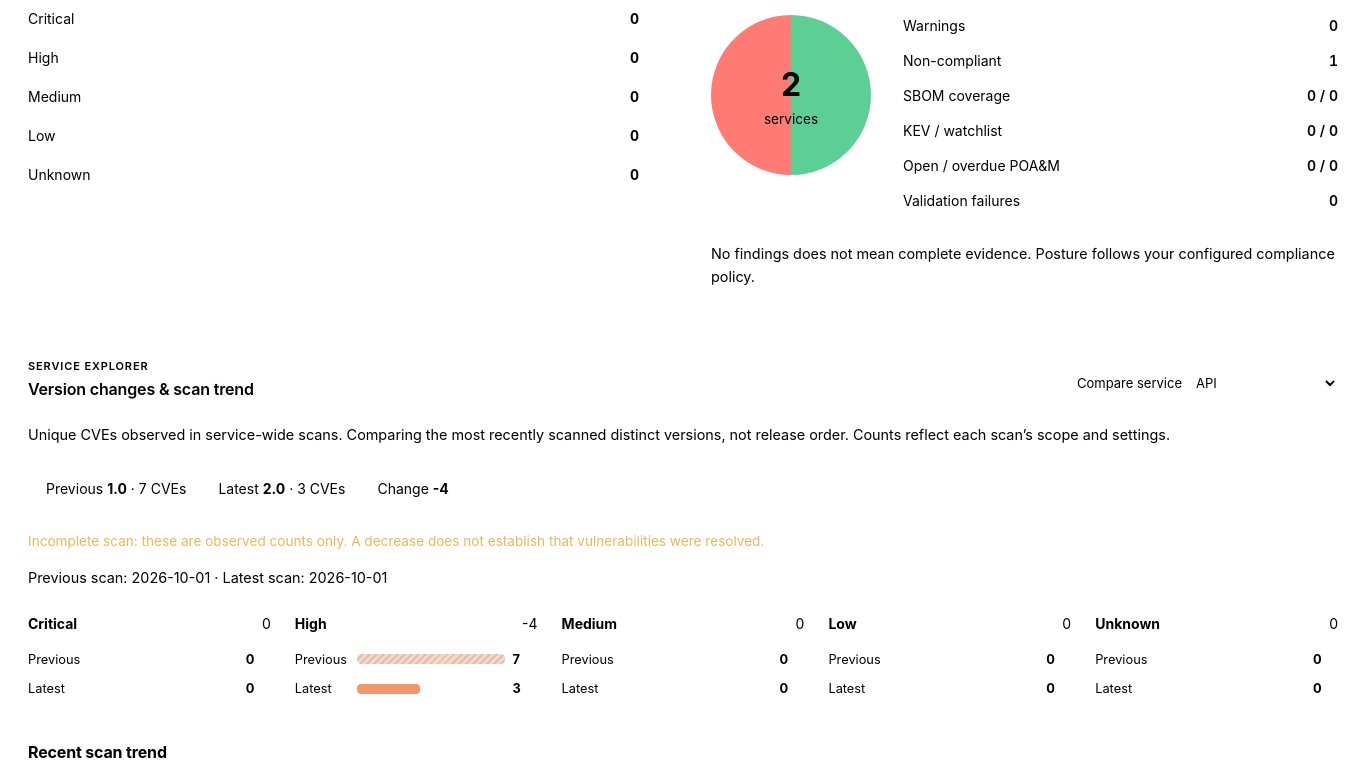
Test case: cybersecurity portfolio › compares saved versions, flags partial scans and switches services
(page scrolled)
Expected: the text "-4" is shown 2 times, [433, 480, 449, 497]; [522, 613, 538, 634]
Expected: the text "does not establish" is shown, [28, 533, 764, 549]
Select "Database" in the dropdown labelled "Compare service" at [1260, 383], box [1182, 365, 1338, 401]
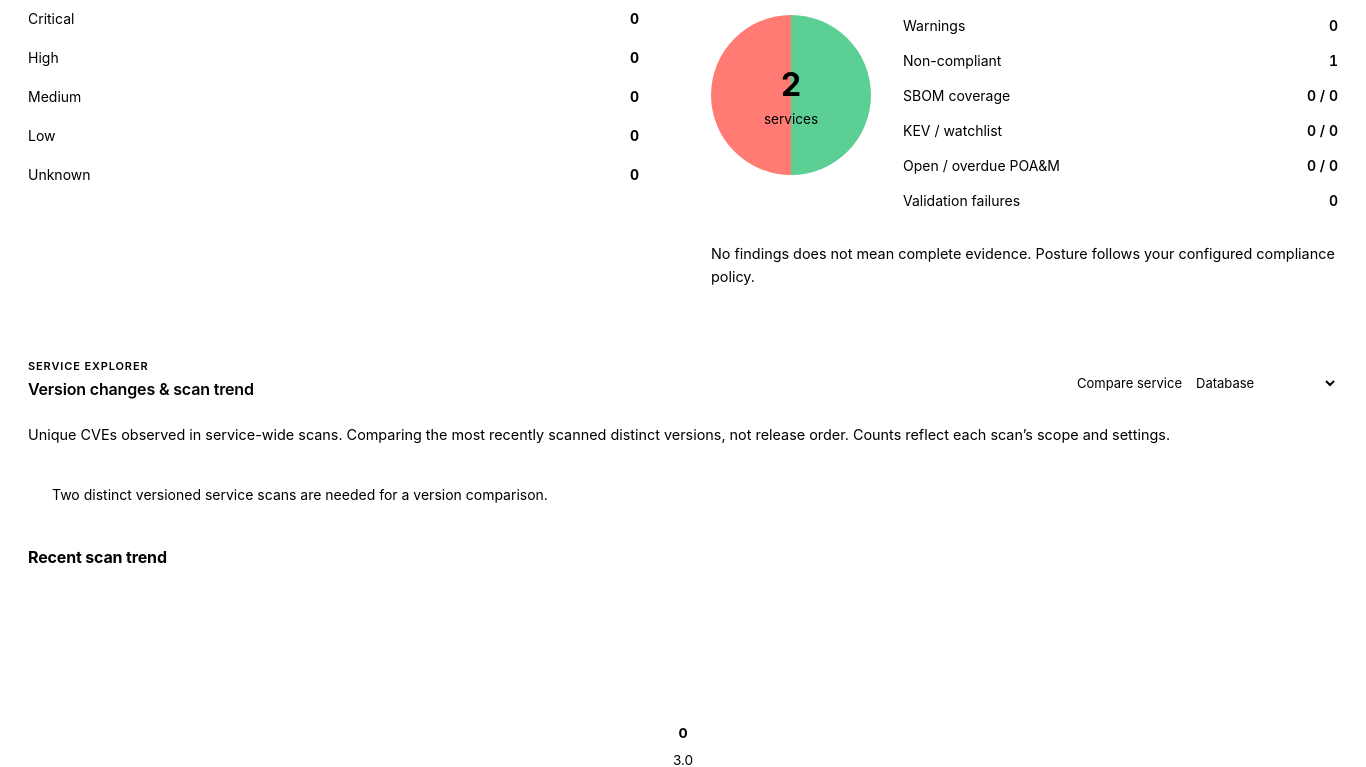
Result: the text "Two distinct versioned service scans are needed for a version comparison." is shown at [52, 486, 548, 503]
